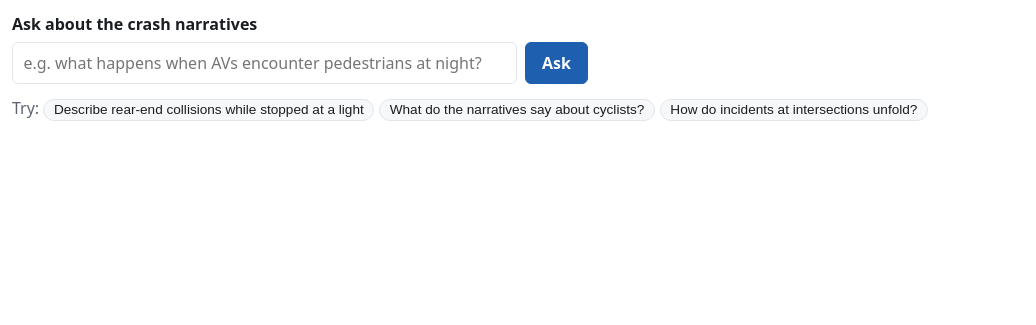
it: RagAsk › marks an unverified answer when the judge did not confirm support
Type "pedestrians" into the field labelled "Ask about the crash narratives" at (265,63), box [12,42,517,84]
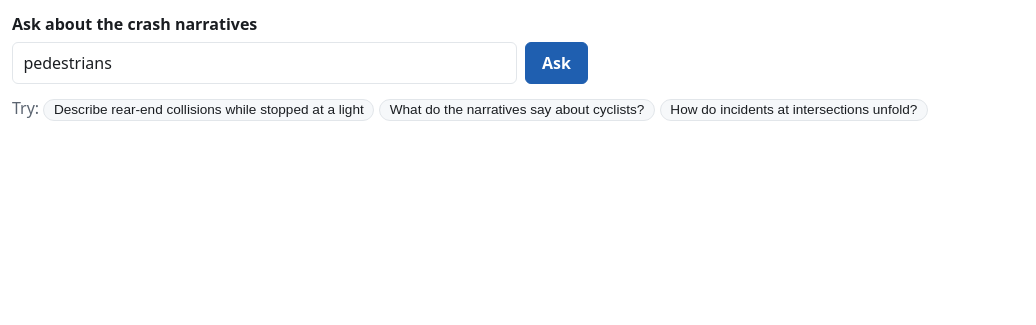
Submit the form, box [12,13,588,84]
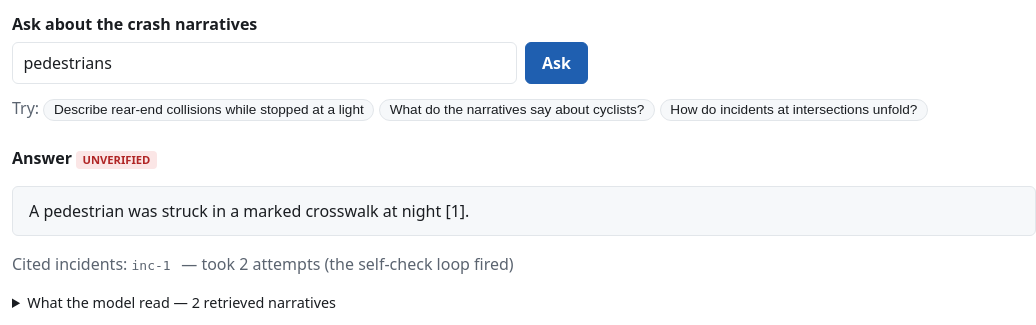
Expected: the text "unverified" is shown, [76,151,157,169]
Expected: the text "2 attempts" is shown, [177,253,514,275]
